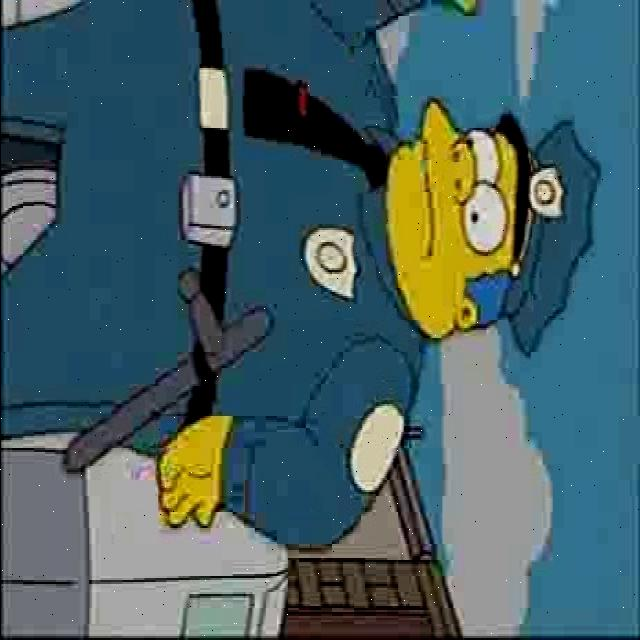Chief Wiggam: (380, 94, 602, 366)
